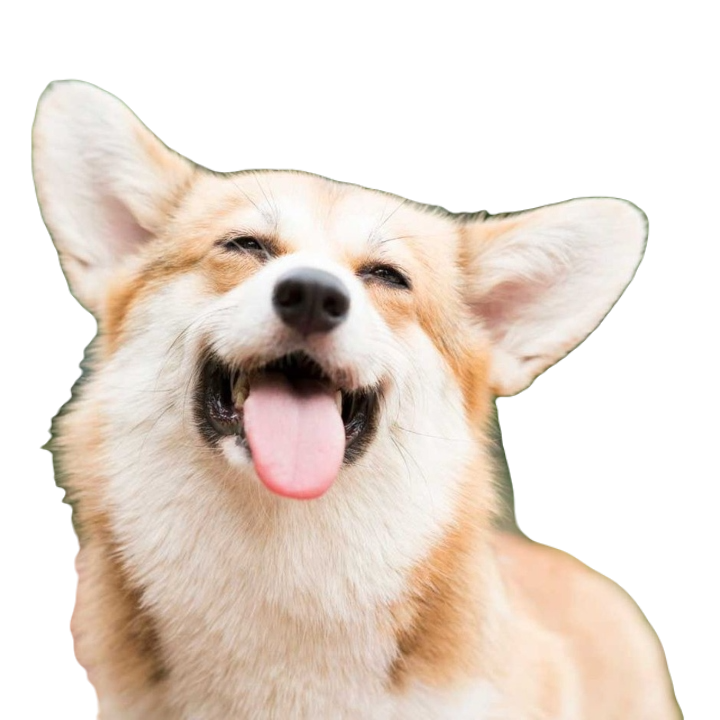Dog: (26, 75, 687, 718)
